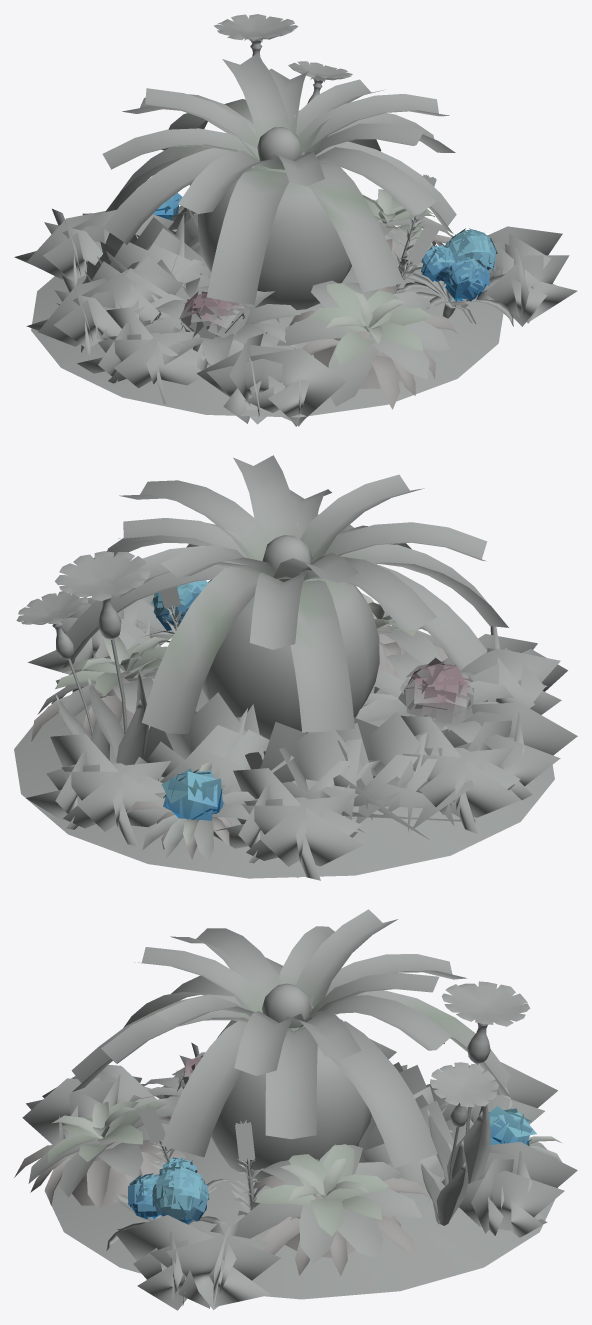
3 views of the same model, one above another, from view 1: azimuth 30°, elevation 25°; view 2: azimuth 150°, elevation 25°; view 3: azimuth 270°, elevation 25° (orthographic). The views are drawn at different scales.
Parts seen in each view (by area): view 1: G:\FFXIV-MapTools\exports\y6f2\bg\ex5\02_ykt_y6\fld\y6f2\bgp (×10); view 2: G:\FFXIV-MapTools\exports\y6f2\bg\ex5\02_ykt_y6\fld\y6f2\bgp (×10); view 3: G:\FFXIV-MapTools\exports\y6f2\bg\ex5\02_ykt_y6\fld\y6f2\bgp (×11).
Boxes of the visible parts, x1=… form: G:\FFXIV-MapTools\exports\y6f2\bg\ex5\02_ykt_y6\fld\y6f2\bgp (×10): x1=14, y1=14, x2=577, y2=426; G:\FFXIV-MapTools\exports\y6f2\bg\ex5\02_ykt_y6\fld\y6f2\bgp (×10): x1=14, y1=455, x2=577, y2=880; G:\FFXIV-MapTools\exports\y6f2\bg\ex5\02_ykt_y6\fld\y6f2\bgp (×11): x1=14, y1=909, x2=577, y2=1310.
Size of the model in its own units: 15.64 by 7.56 by 14.98.
